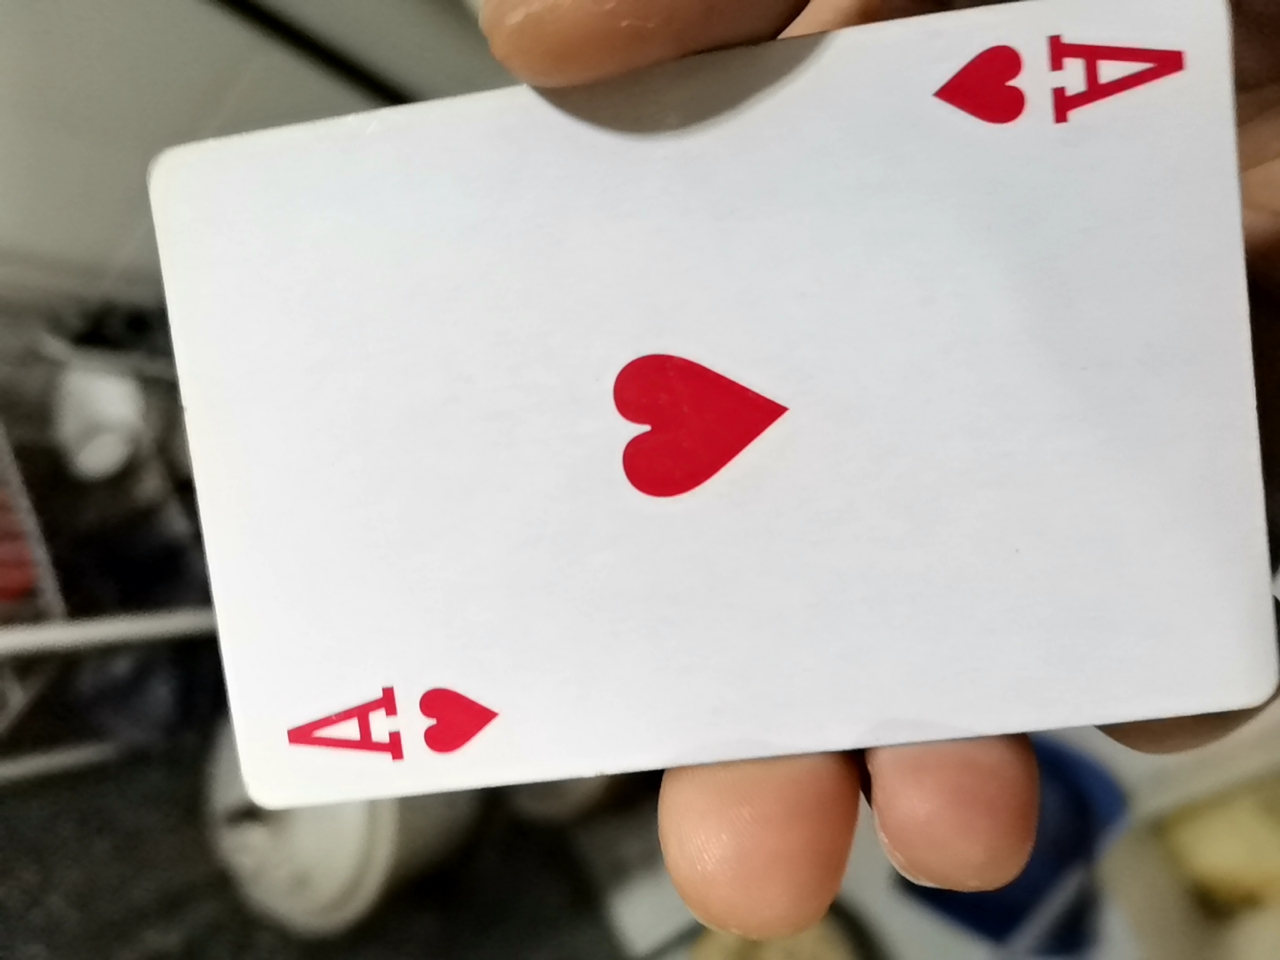hx a: (111, 52, 1261, 716)
